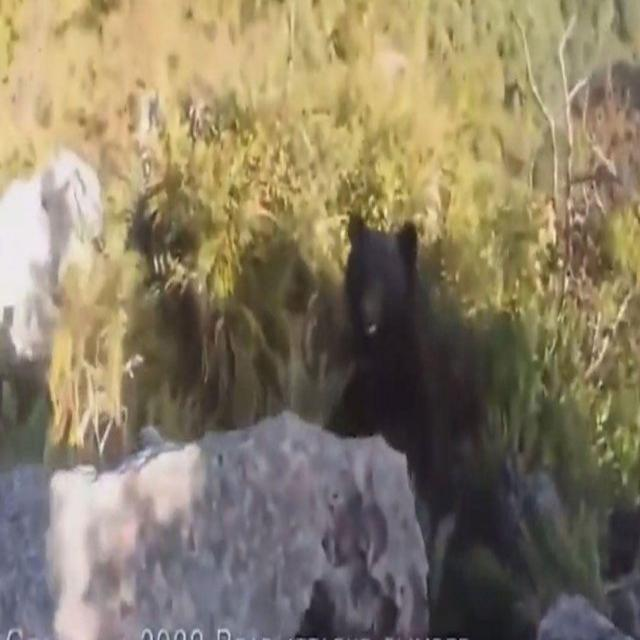Bear: (332, 219, 436, 467)
